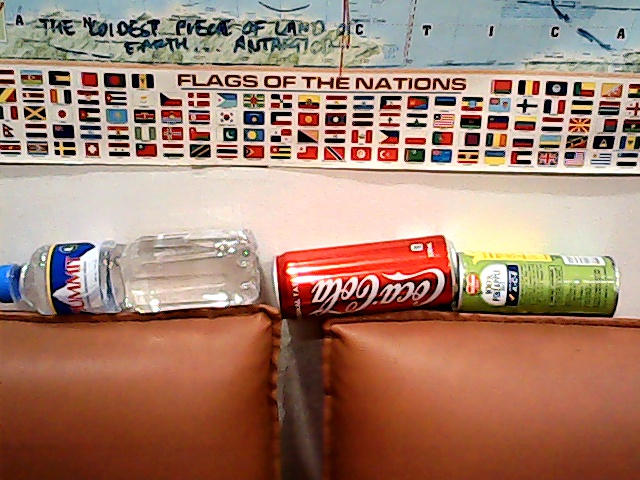Cola: (271, 241, 455, 322)
Pine Juice: (457, 250, 619, 321)
Summit Water: (1, 238, 265, 317)
